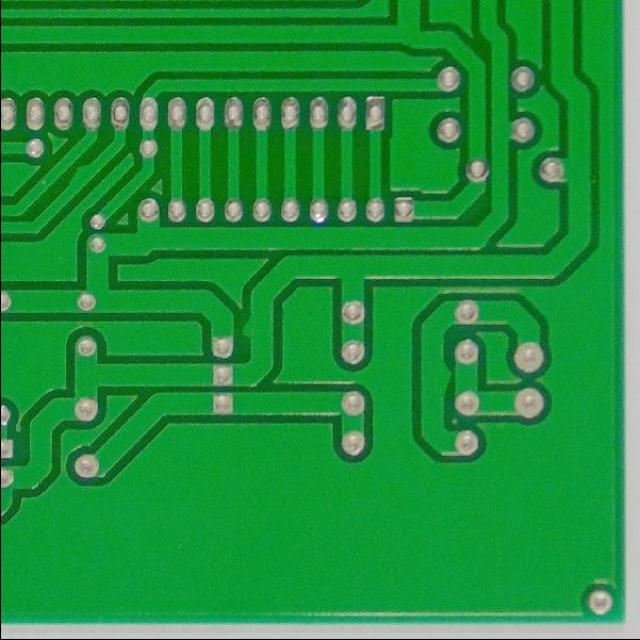Spur: (410, 352, 459, 402), (237, 310, 281, 345), (64, 160, 95, 190)
